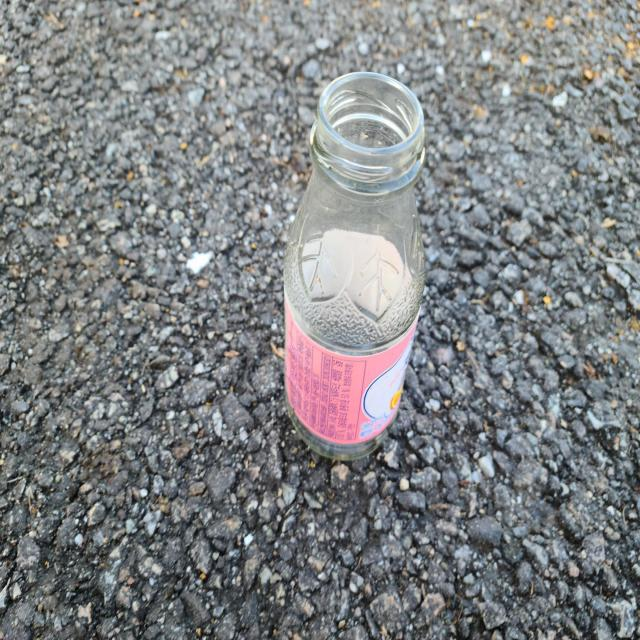glass: (284, 72, 425, 460)
